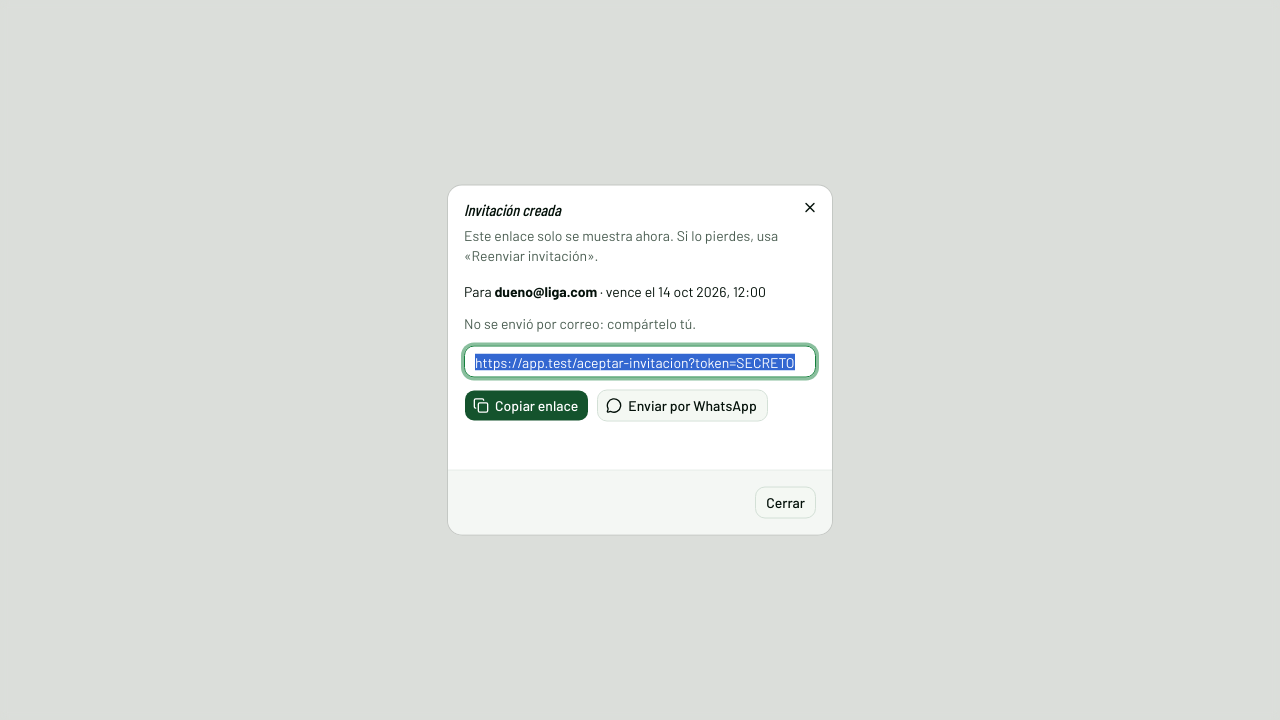
Test: EnlaceInvitacionDialog › muestra el enlace una vez, con aviso, y copia al portapapeles
Expected: the field named "Enlace de invitación" holds "https://app.test/aceptar-invitacion?token=SECRETO", x1=464 y1=346 x2=816 y2=378
Expected: the text "solo se muestra ahora" is shown, x1=464 y1=226 x2=778 y2=264
Click the button "Copiar enlace" at (527, 406), box x1=464 y1=390 x2=589 y2=422
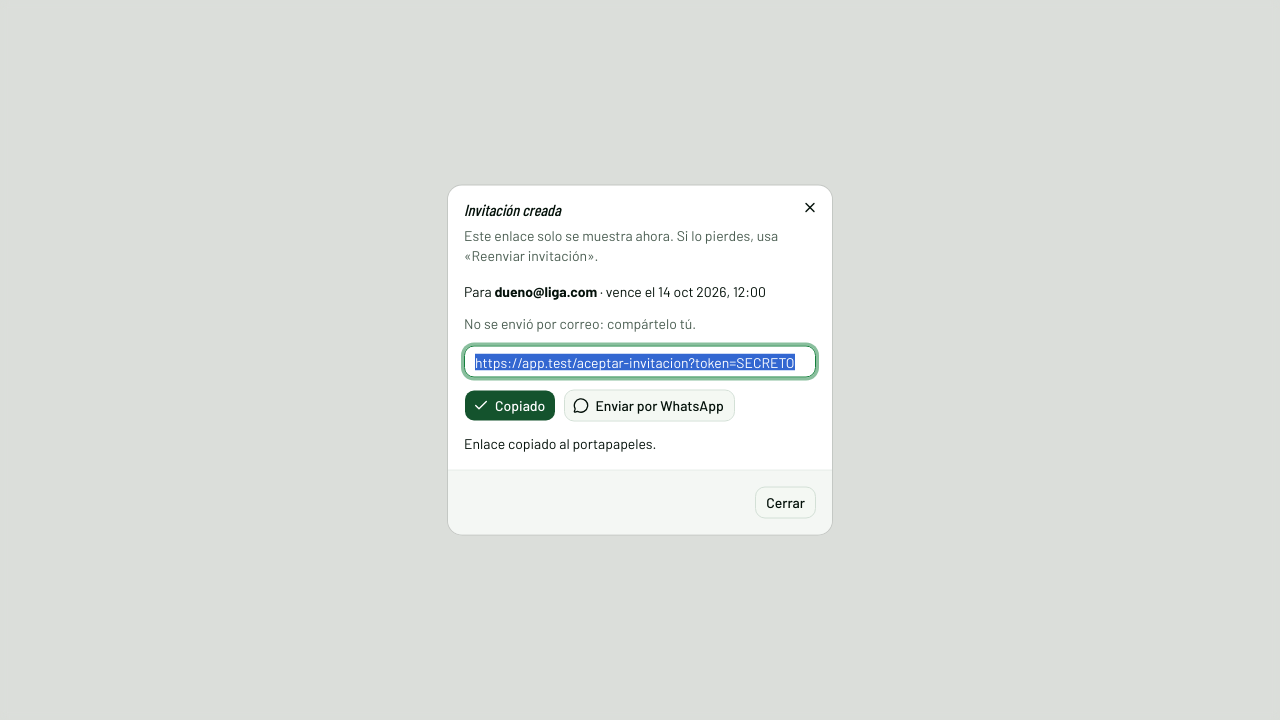
Now the text "Enlace copiado al portapapeles." is shown, box x1=464 y1=434 x2=656 y2=452
